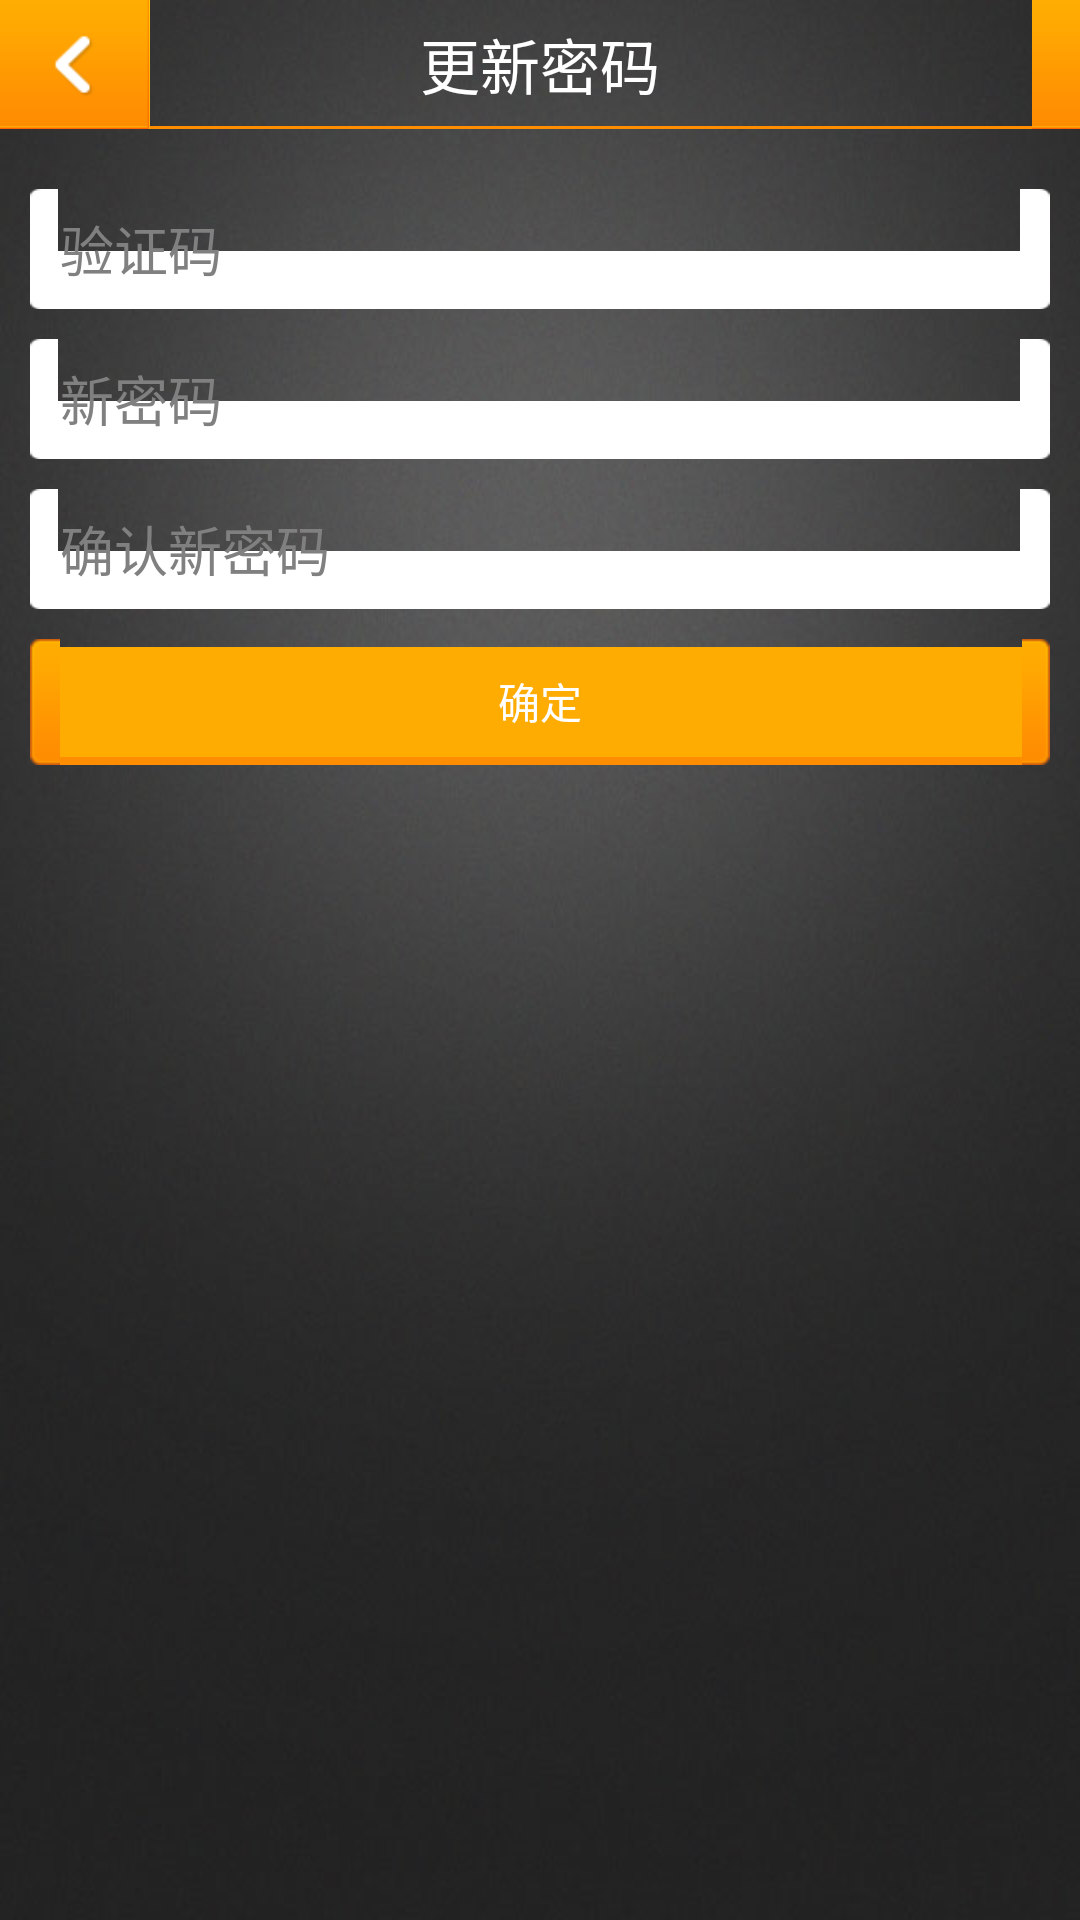

Icons on this 1080px×1920px Android screen, each with its box as box(x1, y1, x2, y2):
back: box(37, 27, 112, 96)
